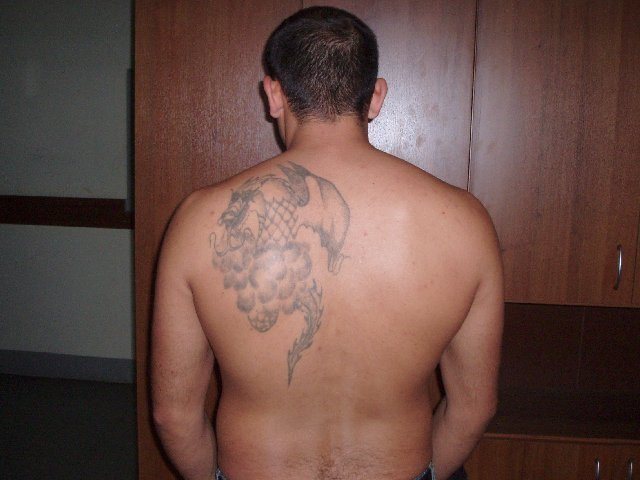tatu6_drakon: (209, 164, 382, 392)
